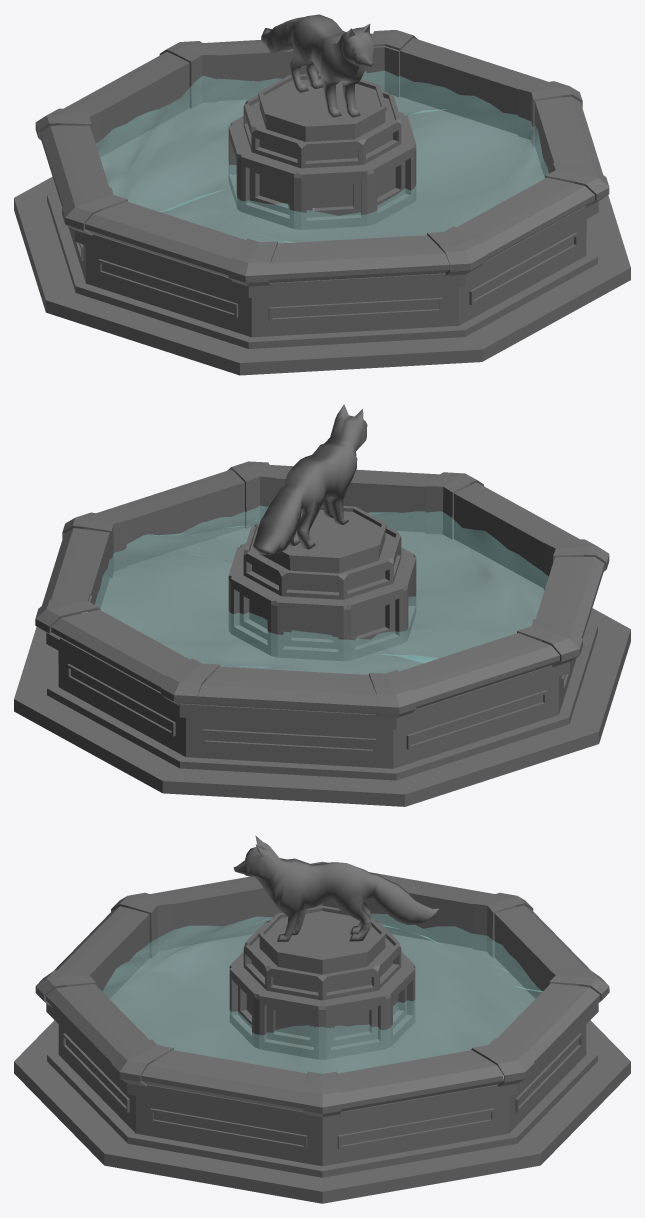
The model's file is Park.glb.
3 renders of one model, top to bottom at view 1: azimuth 30°, elevation 25°; view 2: azimuth 150°, elevation 25°; view 3: azimuth 270°, elevation 25°, orthographic. The views are drawn at different scales.
Visible parts, largest first — view 1: fontana base, fontana base parte superiore, acqua, Cylinder, volpe; view 2: fontana base, fontana base parte superiore, acqua, Cylinder, volpe; view 3: fontana base, fontana base parte superiore, acqua, Cylinder, volpe.
Part boxes in pixels (x1,y1,x2,y2): fontana base: [14, 95, 630, 375]; fontana base parte superiore: [35, 30, 609, 297]; acqua: [96, 71, 548, 242]; Cylinder: [228, 73, 416, 229]; volpe: [261, 14, 373, 117]; fontana base: [14, 526, 630, 806]; fontana base parte superiore: [35, 461, 609, 729]; acqua: [95, 506, 548, 674]; Cylinder: [228, 505, 416, 661]; volpe: [253, 404, 367, 554]; fontana base: [14, 934, 630, 1203]; fontana base parte superiore: [35, 861, 609, 1128]; acqua: [102, 914, 542, 1073]; Cylinder: [229, 905, 415, 1059]; volpe: [233, 835, 438, 941].
Size of the model in its own units: 8.94 by 3.77 by 8.94.
2 materials, 1 textured.
